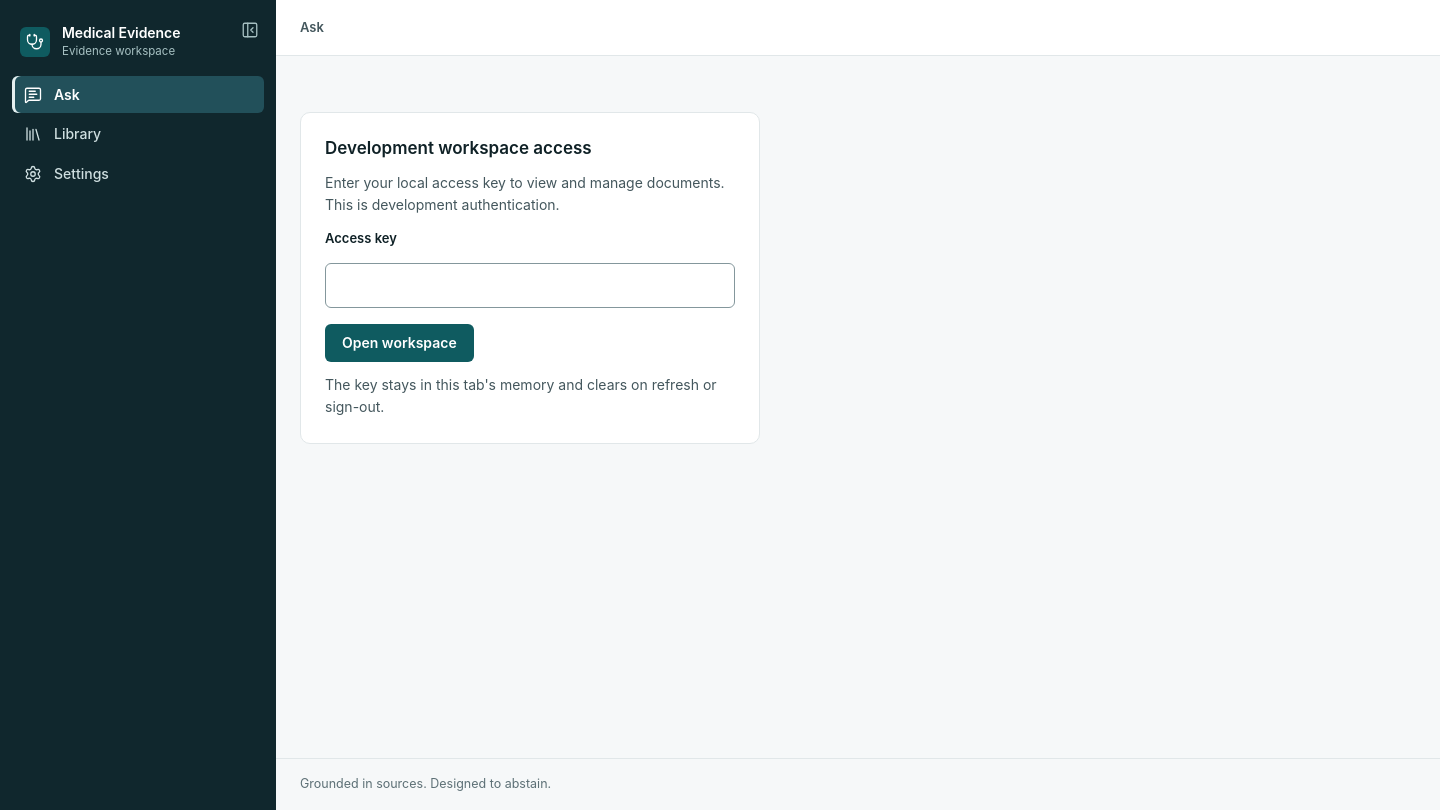
Test: shows no confidence figure anywhere
This screenshot has width=1440, height=810.
Type "test-key" into the password field labelled "Access key" at (530, 285), box [325,263,735,308]
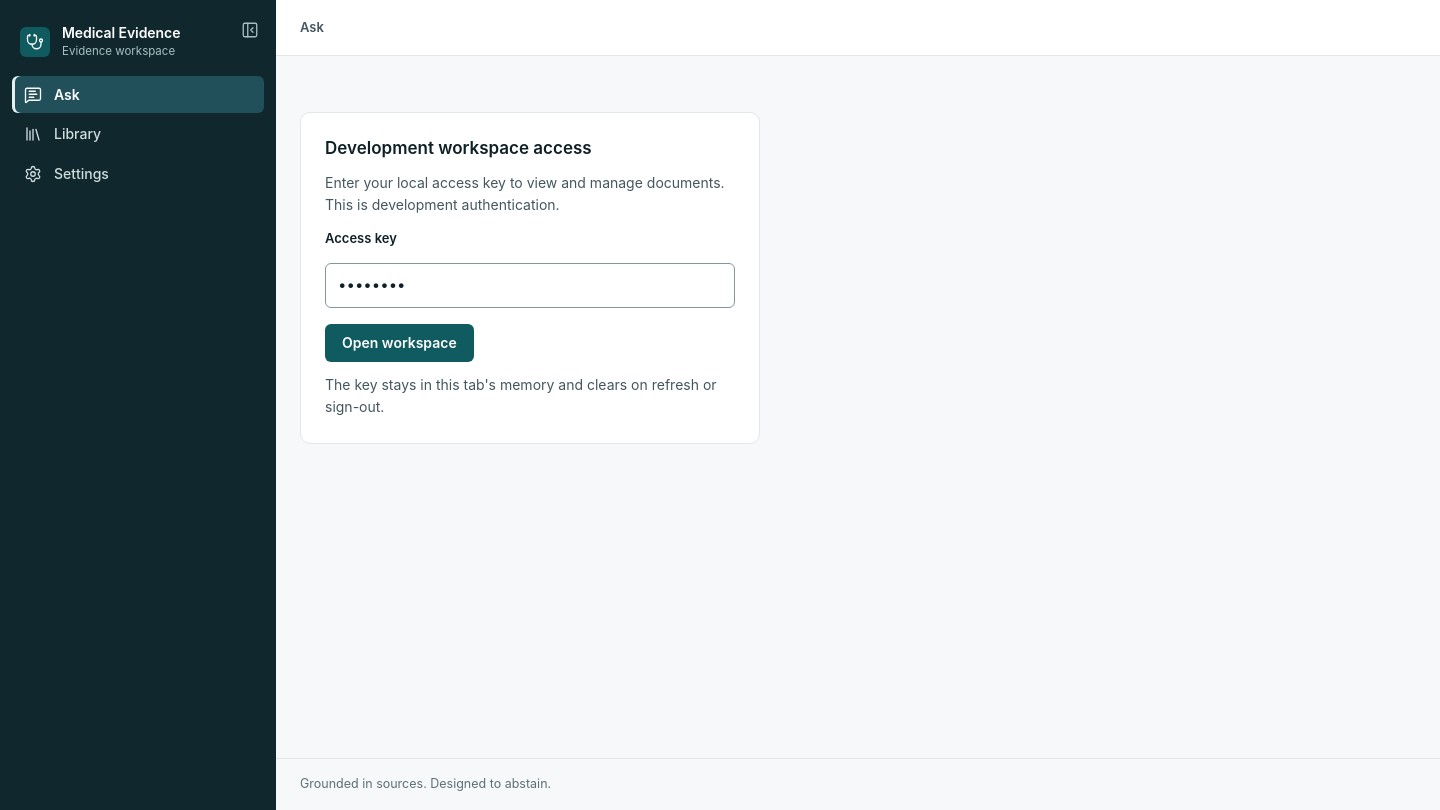
Click the button "Open workspace" at (399, 343), box [325,324,474,362]
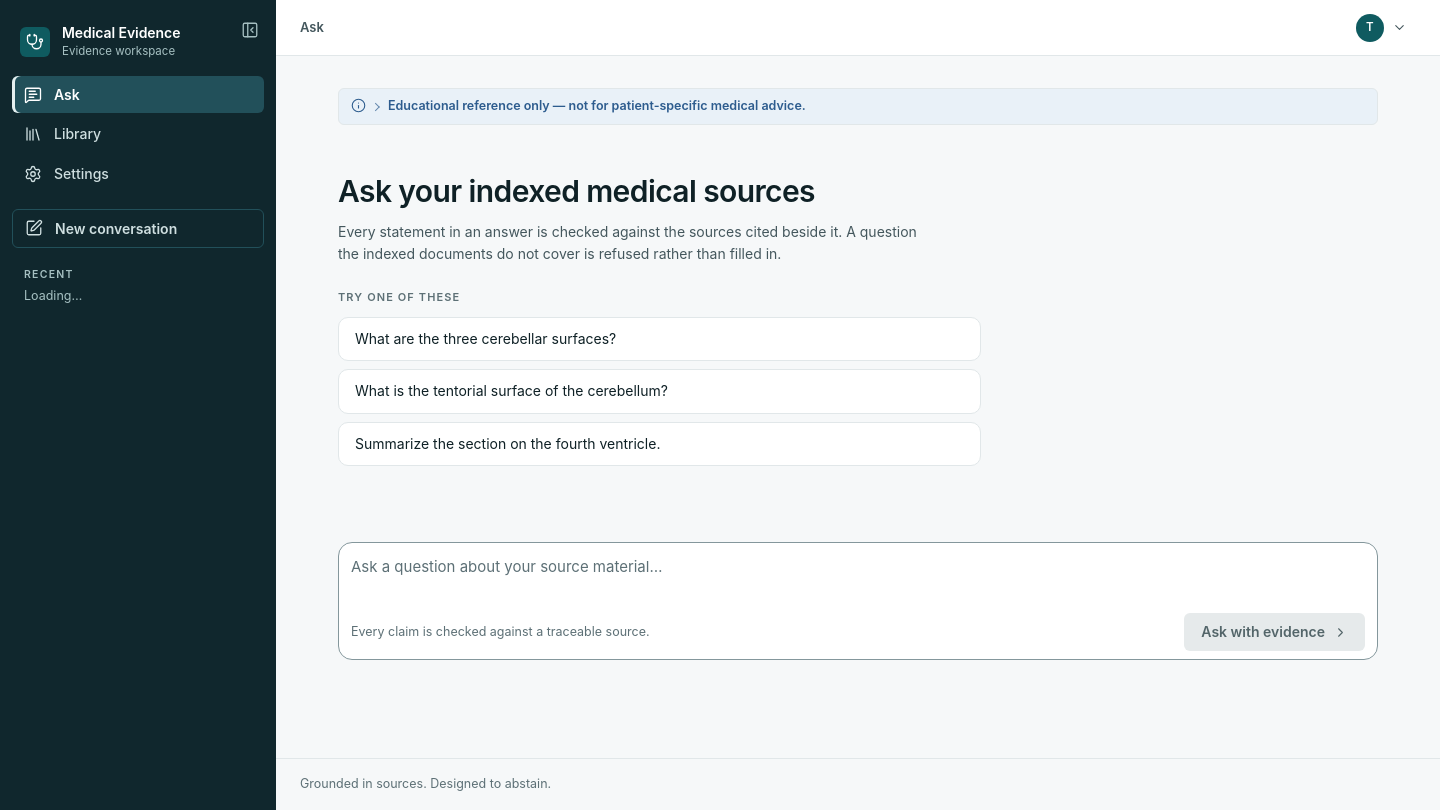
Check: the text box named "Your educational medical question" is shown
Type "HLA-B27?" into the text box named "Your educational medical question" at (858, 580), box [351,555,1365,605]
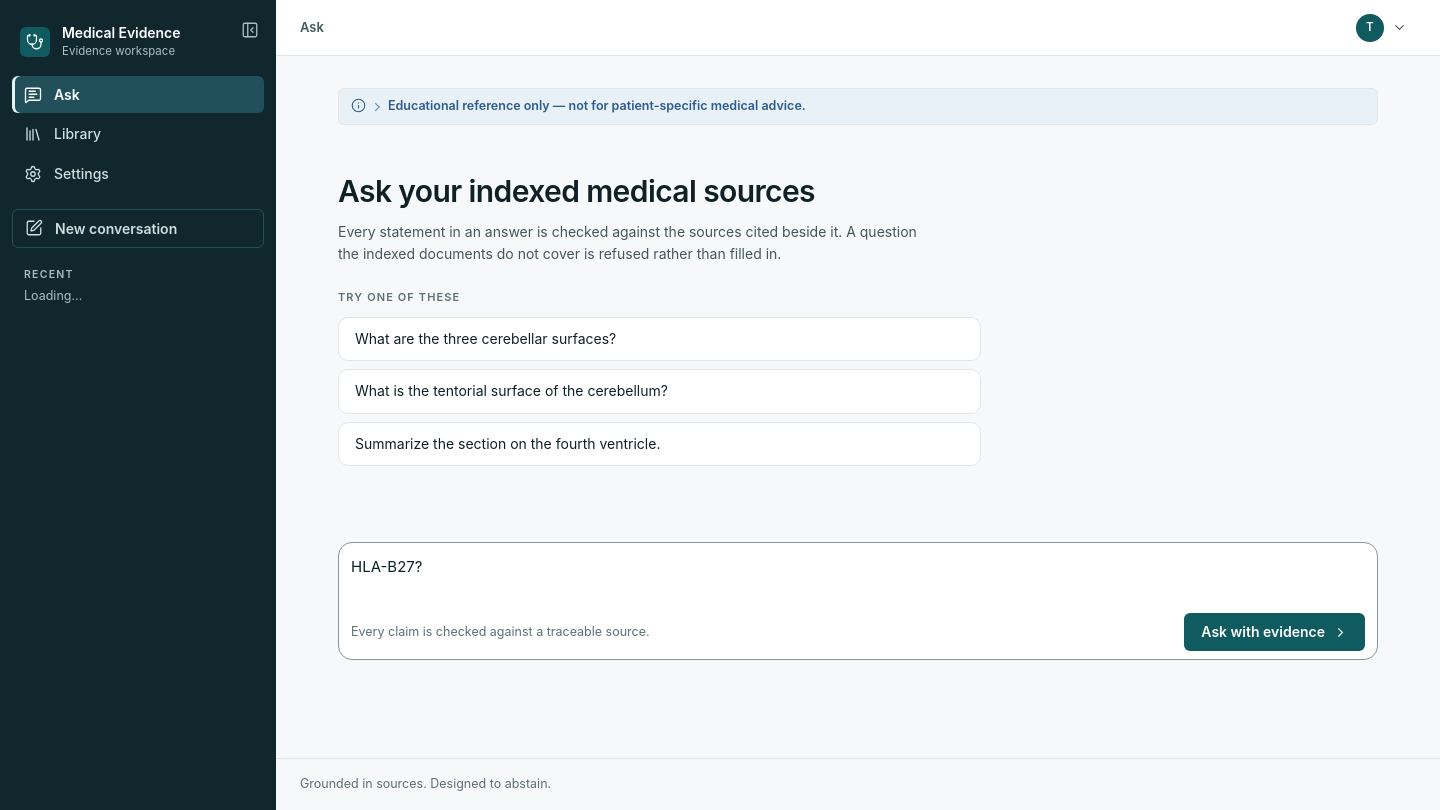
Click the button "Ask with evidence" at (1275, 632), box [1184,613,1365,651]
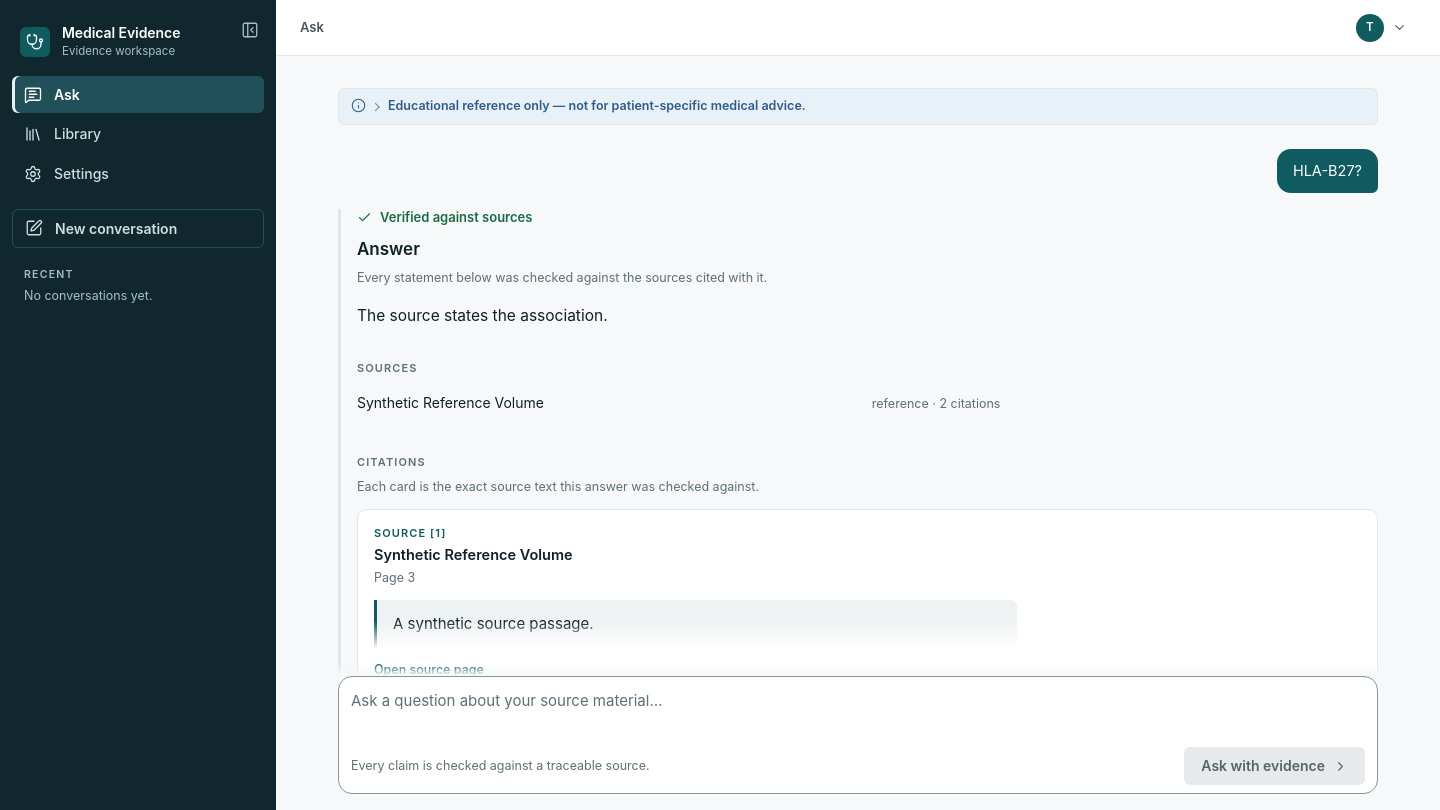
Check: the heading "Answer" is shown, box [357,239,420,259]
